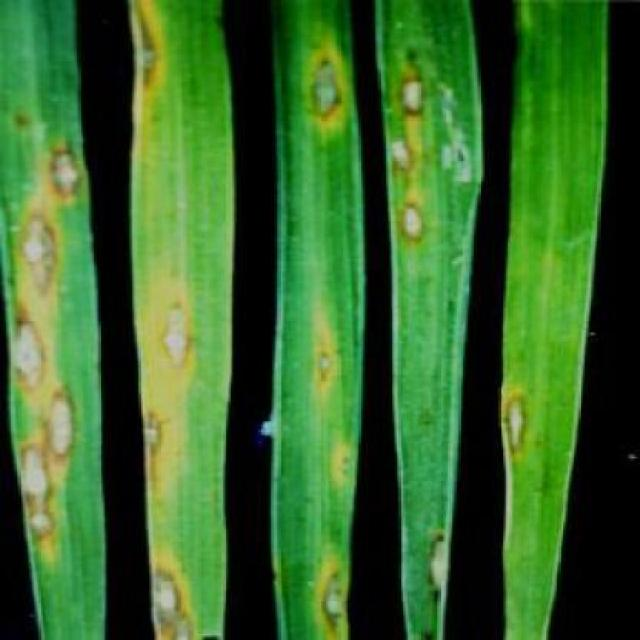Bacterial_Leaf_Blight: (145, 276, 229, 389), (1, 198, 88, 302), (4, 442, 70, 546), (118, 17, 200, 98), (286, 294, 346, 400), (292, 551, 358, 640), (295, 37, 356, 132), (27, 135, 98, 211), (415, 490, 456, 618), (0, 307, 58, 389), (493, 373, 545, 464), (385, 50, 447, 125), (24, 386, 88, 456), (428, 125, 484, 190), (138, 564, 191, 631), (388, 181, 434, 242), (133, 406, 184, 460), (377, 118, 425, 174), (13, 499, 67, 546), (318, 437, 360, 497), (161, 621, 230, 640), (138, 621, 195, 640), (415, 612, 442, 639)
